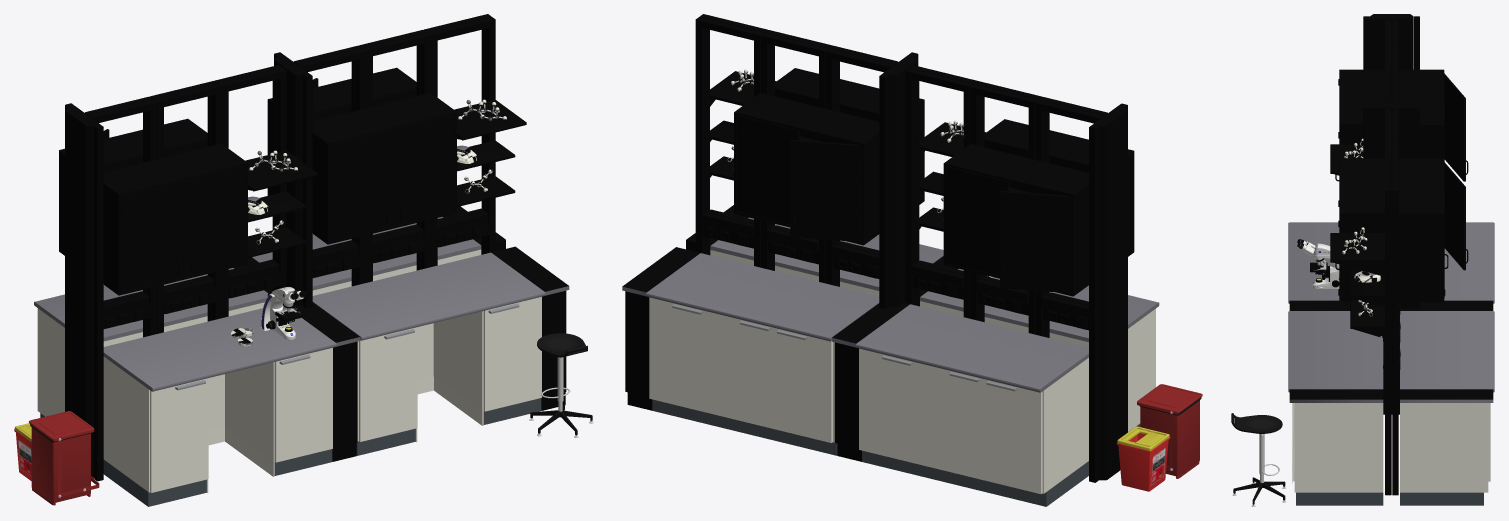
File: Lab_bench1.glb
3 renders of one model, left to right at view 1: azimuth 30°, elevation 25°; view 2: azimuth 150°, elevation 25°; view 3: azimuth 270°, elevation 25°, orthographic. The views are drawn at different scales.
Parts seen in each view (by area): view 1: Bench, Dustbin, Chair, Microscope; view 2: Bench, Dustbin; view 3: Bench, Chair, Microscope.
Part boxes in pixels (x1,y1,x2,y2): Bench: [34, 14, 569, 506]; Dustbin: [14, 411, 99, 505]; Chair: [529, 333, 593, 437]; Microscope: [261, 287, 306, 340]; Bench: [622, 14, 1159, 506]; Dustbin: [1116, 384, 1202, 491]; Bench: [1288, 14, 1494, 505]; Chair: [1231, 413, 1286, 506]; Microscope: [1297, 239, 1339, 288].
Bounding box in the file's own units: 3.81 × 2.6 × 2.03.
Materials: 4 (4 with a texture image).
